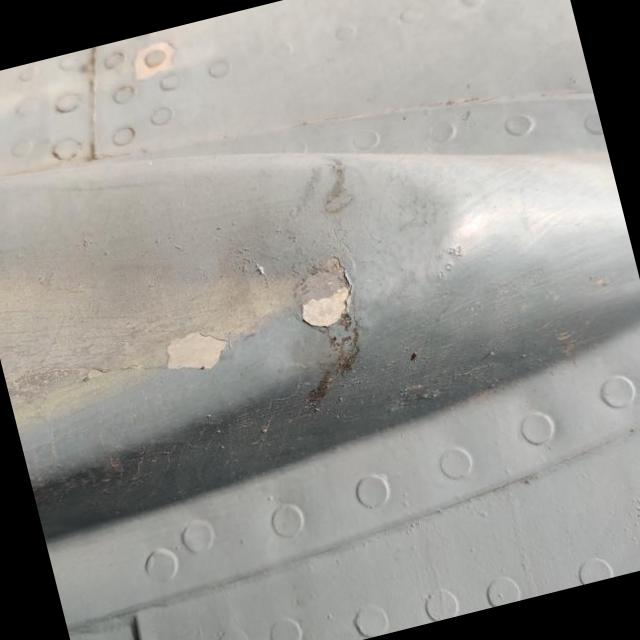Paint-off: (289, 250, 360, 370), (127, 326, 232, 373)
